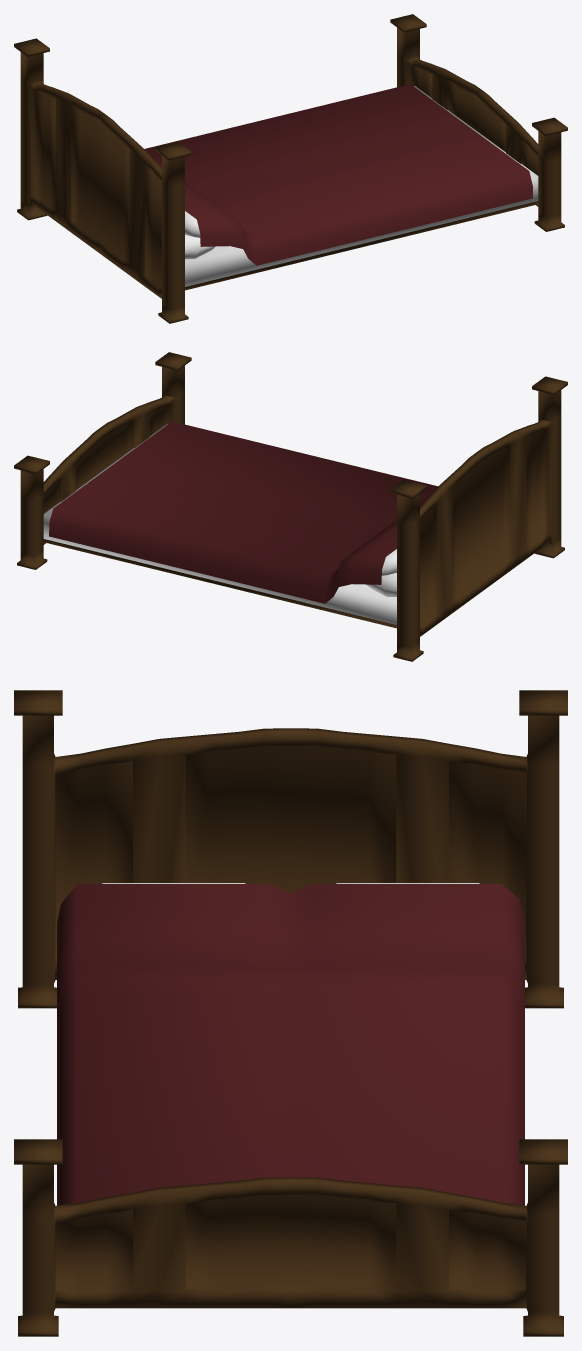
File: Bed.fbx
3 views of the same model, one above another, from view 1: azimuth 30°, elevation 25°; view 2: azimuth 150°, elevation 25°; view 3: azimuth 270°, elevation 25° (orthographic). The views are drawn at different scales.
Visible parts, largest first — view 1: Cube; view 2: Cube; view 3: Cube.
Part boxes in pixels (<box>): Cube: <box>14,14,567,323</box>; Cube: <box>14,352,567,661</box>; Cube: <box>14,690,567,1336</box>.
Size of the model in its own units: 1533 by 616 by 1032.
